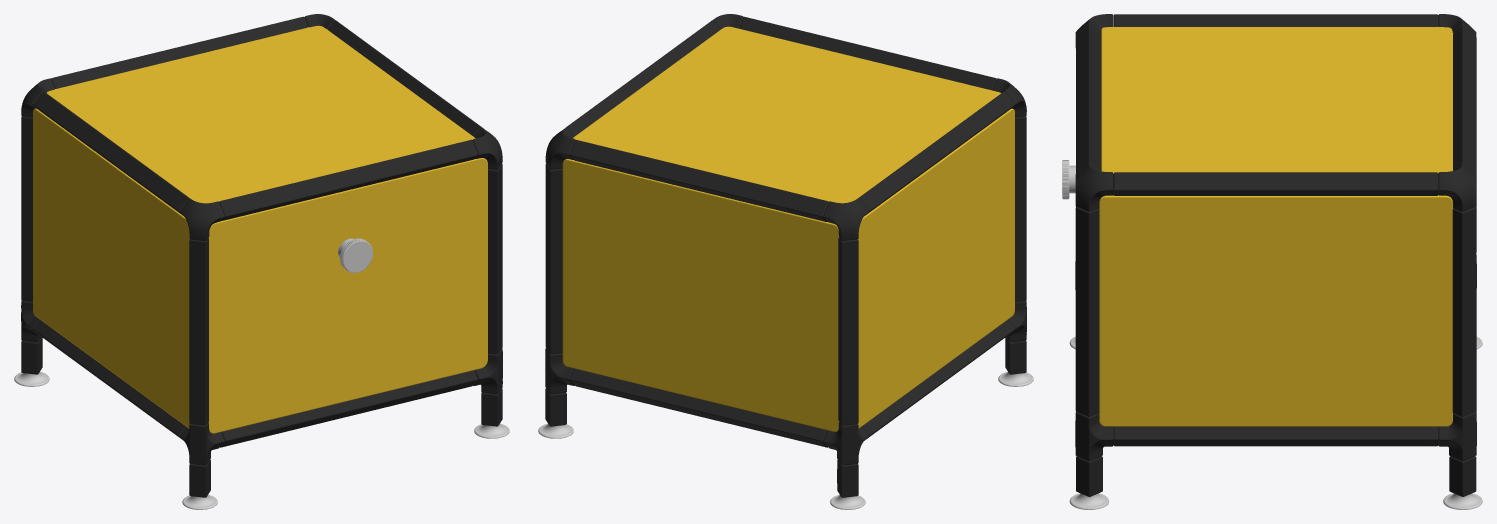
The picture shows the model from 3 angles, left to right: view 1: azimuth 30°, elevation 25°; view 2: azimuth 150°, elevation 25°; view 3: azimuth 270°, elevation 25°; orthographic projection. The views are drawn at different scales.
Parts seen in each view (by area): view 1: 329x329x229; view 2: 329x329x229; view 3: 329x329x229.
Part boxes in pixels (x1,y1,x2,y2): 329x329x229: (14, 14, 509, 509); 329x329x229: (538, 14, 1033, 509); 329x329x229: (1062, 14, 1482, 509).
Bounding box in the file's own units: 0.4188 × 0.3683 × 0.4257.
